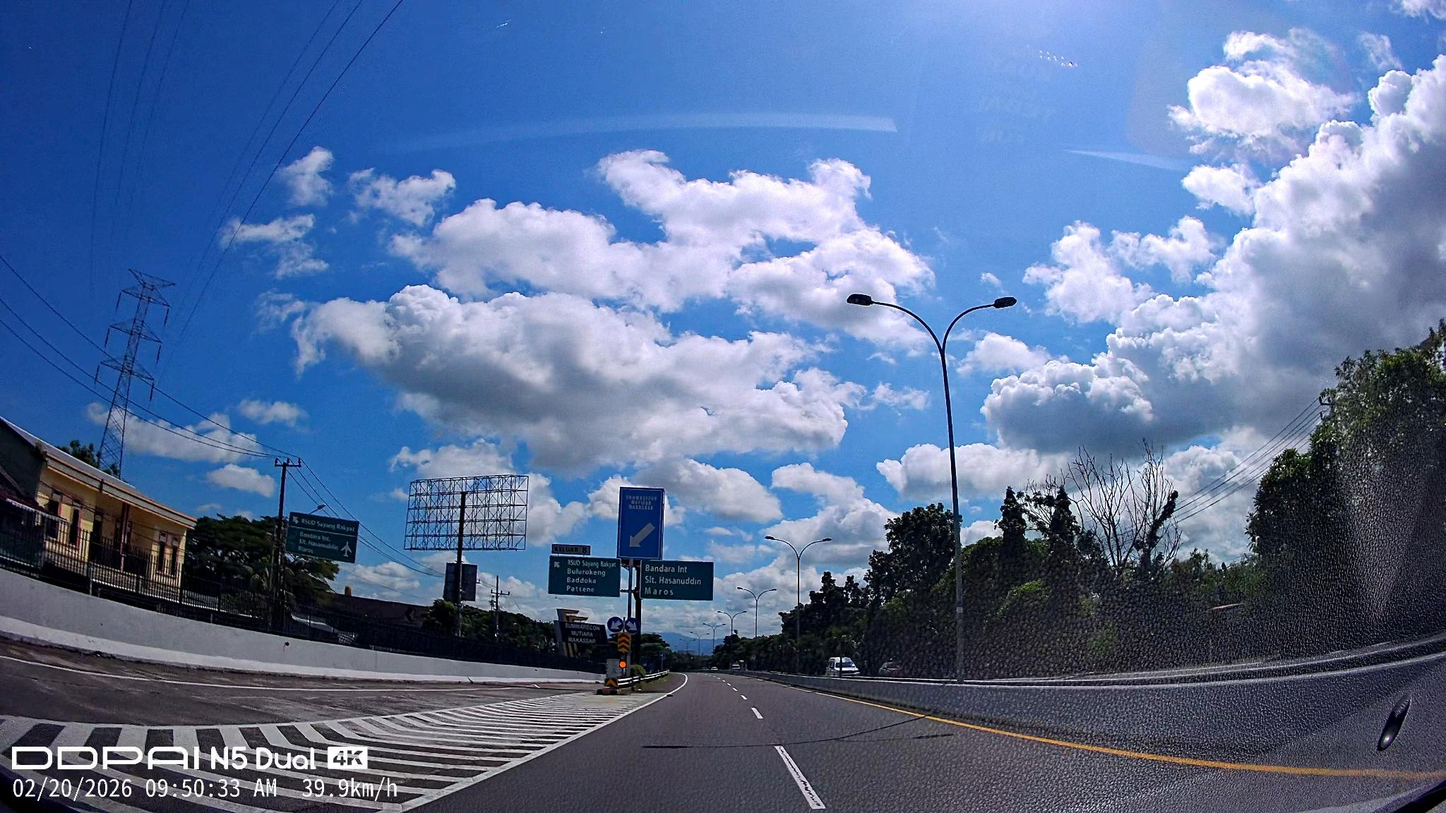rambu_teks: (639, 558, 715, 602), (547, 554, 622, 598)
